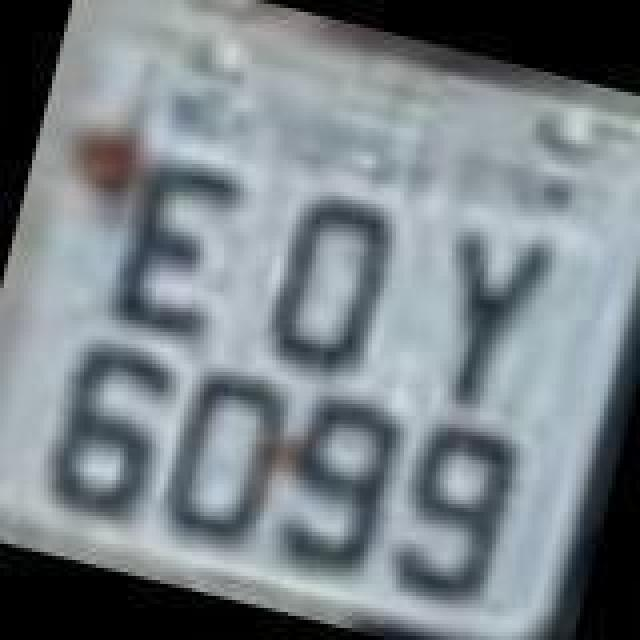6: (38, 336, 186, 528)
9: (384, 416, 528, 608), (270, 392, 410, 576)
E: (110, 154, 242, 342)
O: (150, 358, 298, 554), (264, 186, 400, 374)
Y: (410, 224, 558, 432)
